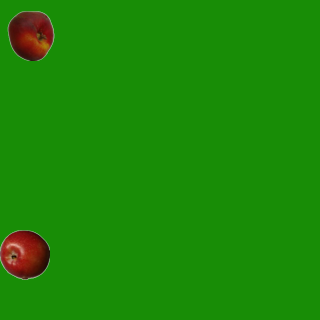Apple Braeburn: (0, 229, 49, 279)
Nectarine Flat: (5, 10, 55, 60)
